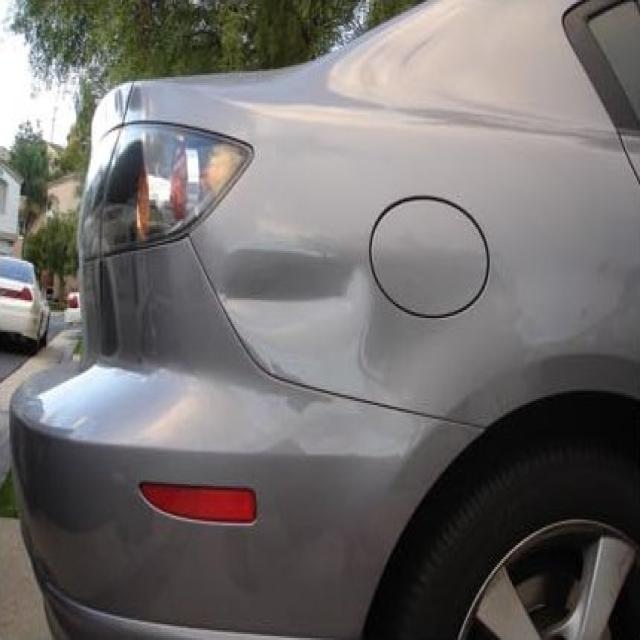dent: (218, 233, 420, 406)
